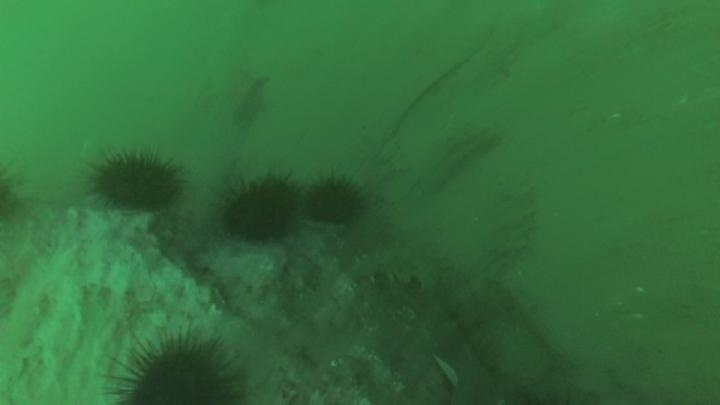echinus: (104, 328, 246, 404), (88, 146, 186, 214), (217, 172, 302, 246), (303, 170, 368, 229), (1, 162, 29, 225)
holothurian: (487, 179, 540, 274), (344, 243, 448, 291)
